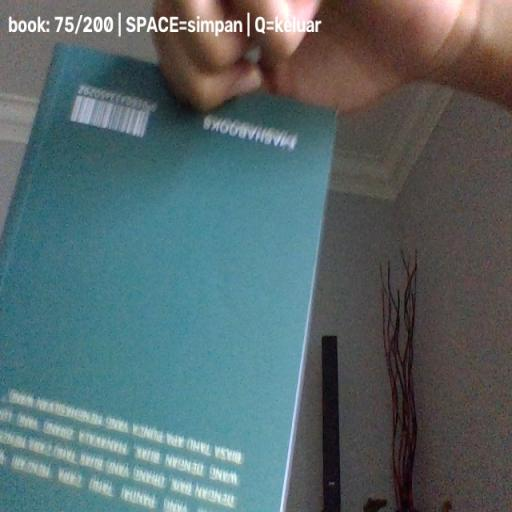Book: (0, 45, 338, 512)
